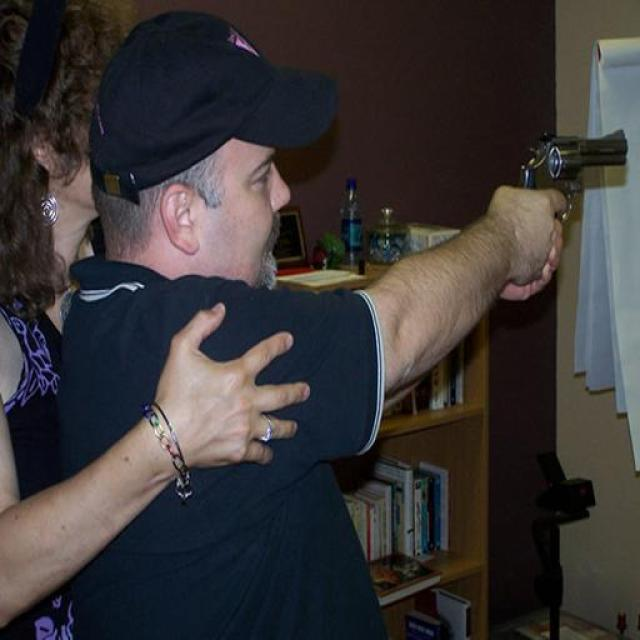pistol: (515, 127, 627, 221)
